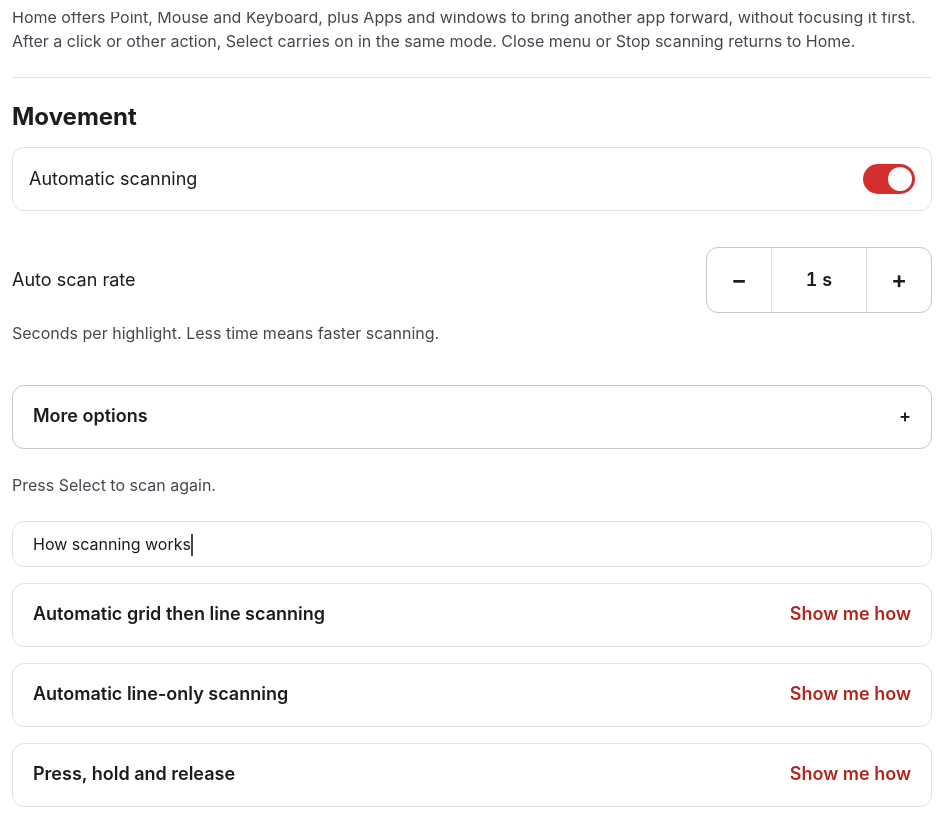
Test: shows the backend's reason while scanning is off and offers no toggle
(page scrolled)
Click the button "More options +".
click(90, 416)  # box [12,384,932,448]
(page scrolled)
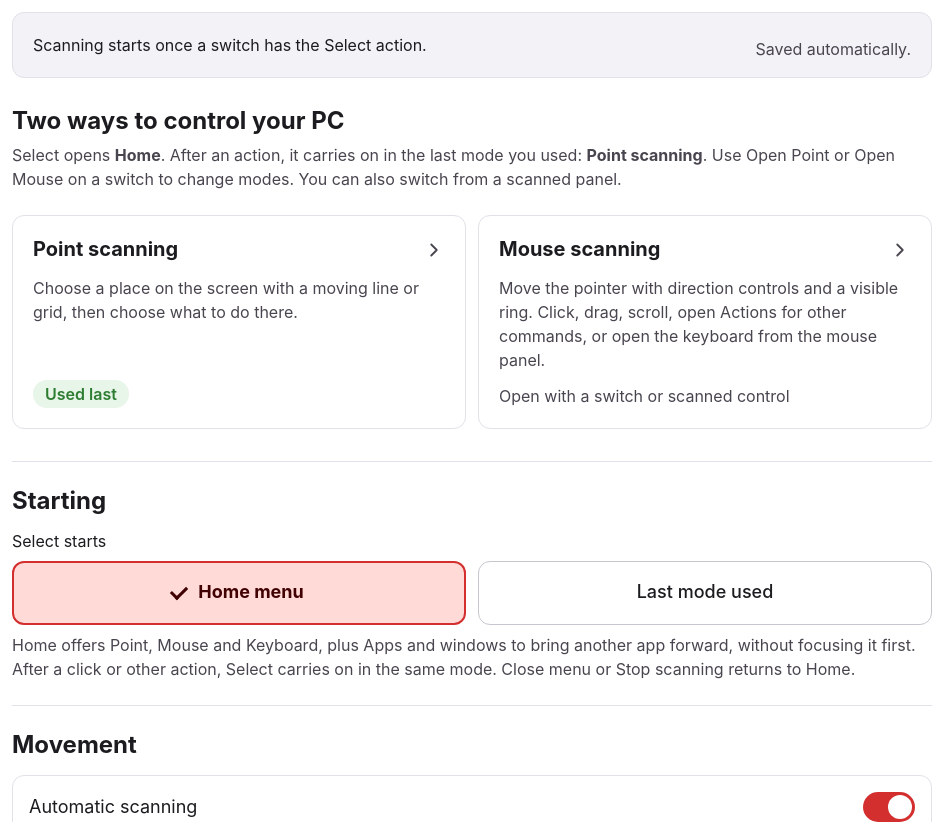
Click the button with aria-label "Customise point scanning".
click(239, 322)  # box [12,215,466,428]
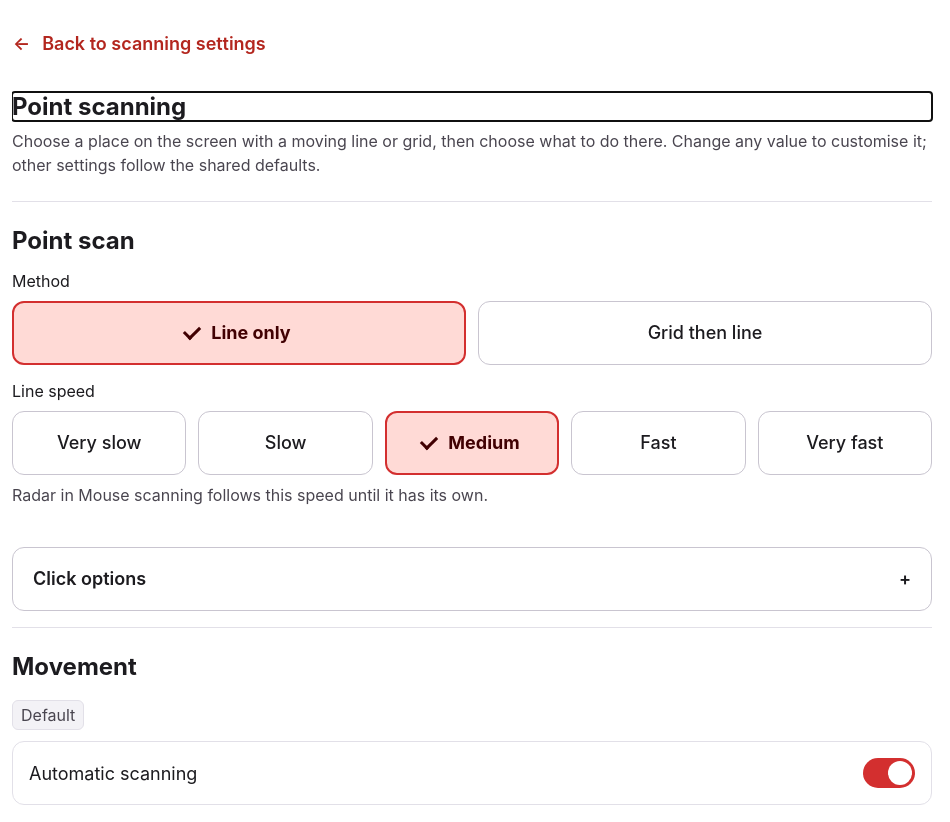
Now the button "Line only" is enabled, box [12,301,466,365]
